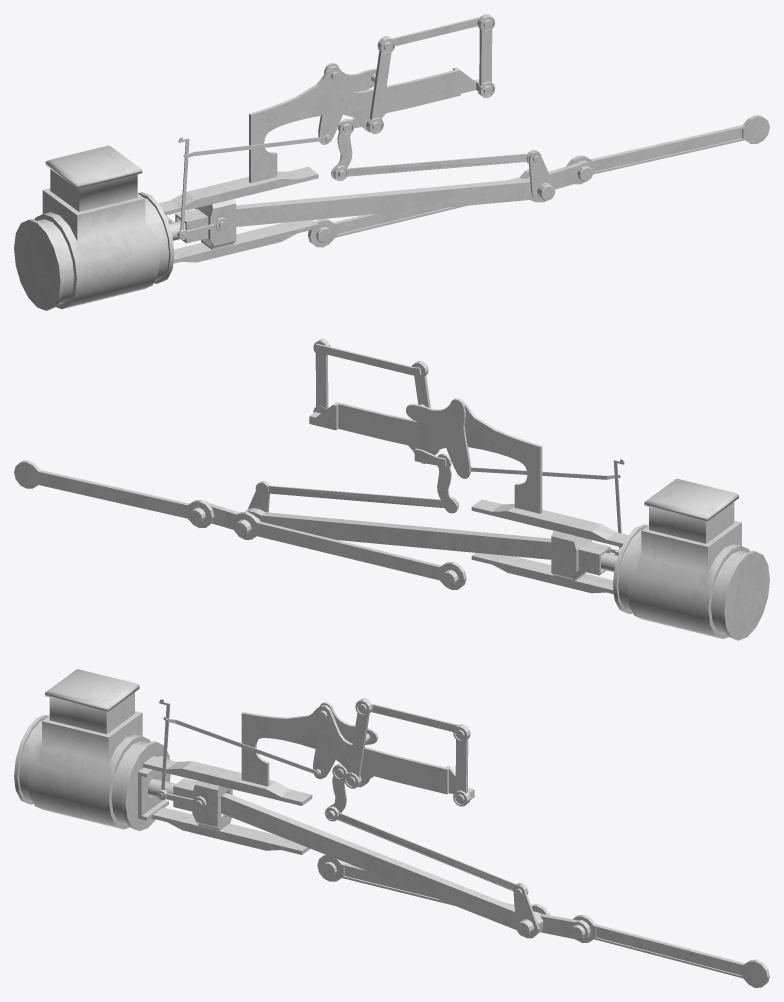
The model's file is Steam Train WheelFrameL_A_001.fbx.
3 views of the same model, one above another, from view 1: azimuth 30°, elevation 25°; view 2: azimuth 150°, elevation 25°; view 3: azimuth 330°, elevation 25° (orthographic). The views are drawn at different scales.
Visible parts, largest first — view 1: Steam_Train_WheelFrameL_A_001; view 2: Steam_Train_WheelFrameL_A_001; view 3: Steam_Train_WheelFrameL_A_001.
Part boxes in pixels (bbox=[...]): Steam_Train_WheelFrameL_A_001: bbox=[14, 14, 769, 310]; Steam_Train_WheelFrameL_A_001: bbox=[14, 339, 769, 640]; Steam_Train_WheelFrameL_A_001: bbox=[14, 669, 769, 987].
Size of the model in its own units: 417 by 114 by 47.65.
Materials: 2 (2 with a texture image).
